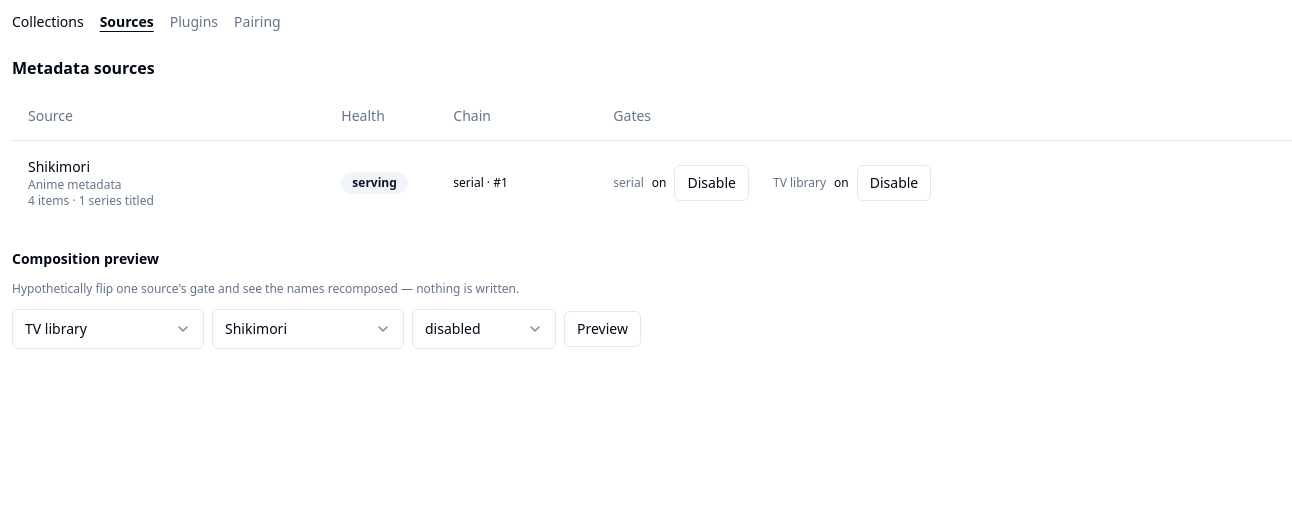
Test: Sources — admin surface (plugin-title-enrichment 6.2) › preview renders before/after symmetrically with no_data rows marked and sends no gate write
Expected: the row that starts with "Shikimori" is shown, [12, 140, 1291, 224]
Note: Defaults: collection 1, source shikimori, hypothetical DISABLE.
Click the button "Preview". click: (602, 328)
box: [564, 310, 641, 346]
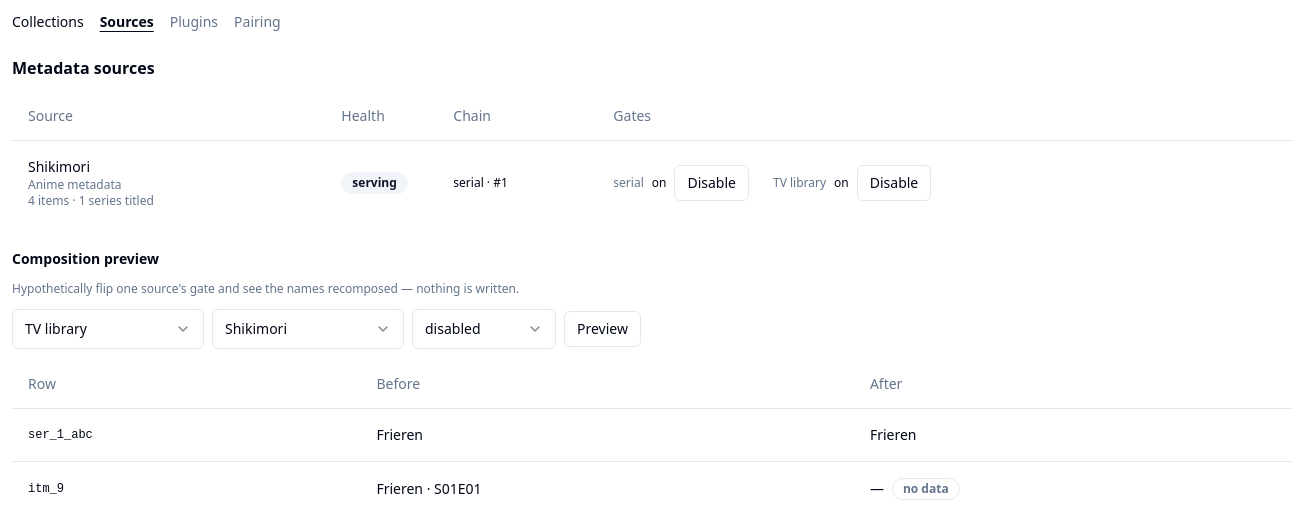
Expected: the text "Frieren · S01E01" is shown, [376, 479, 482, 499]
Expected: the text "Frieren" is shown 2 times, [376, 425, 423, 445]; [870, 425, 916, 445]
Expected: the text "no data" is shown once, [892, 478, 960, 500]
